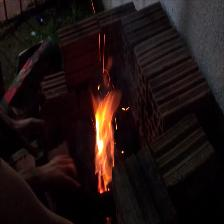fire: (87, 54, 124, 199)
